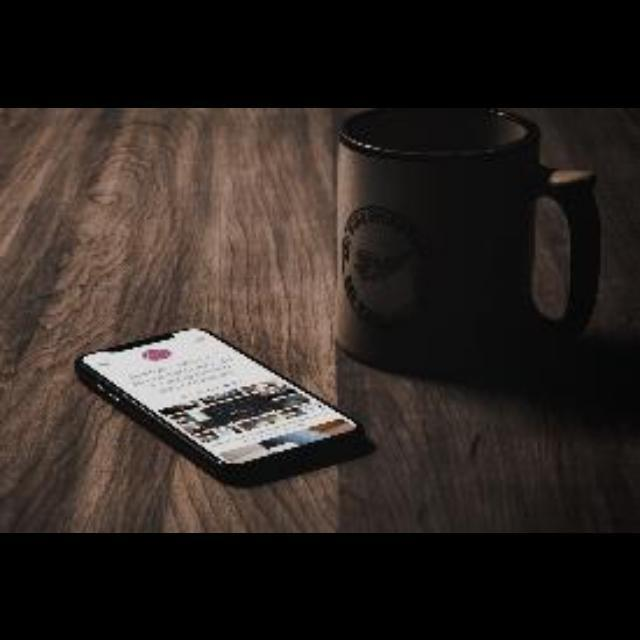PhoneUse: (74, 318, 368, 492)
